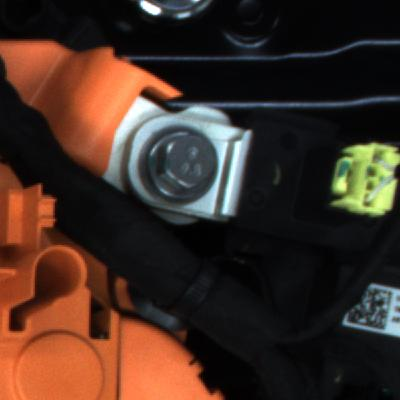nut_b: (140, 124, 220, 211)
